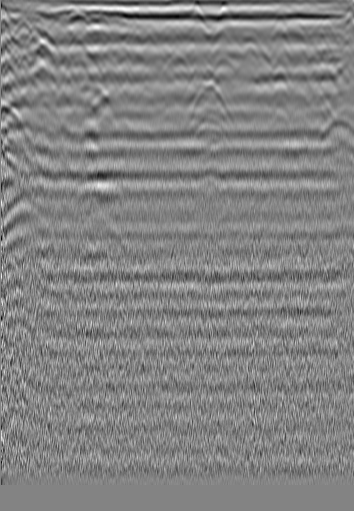상수: (287, 19, 313, 50)
오수: (15, 16, 35, 36)
우수: (137, 28, 157, 48)
